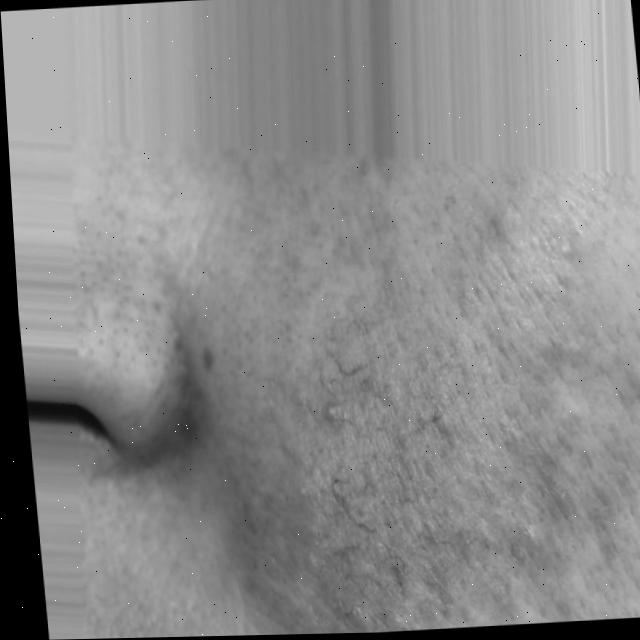Rosacea: (255, 228, 640, 635)
